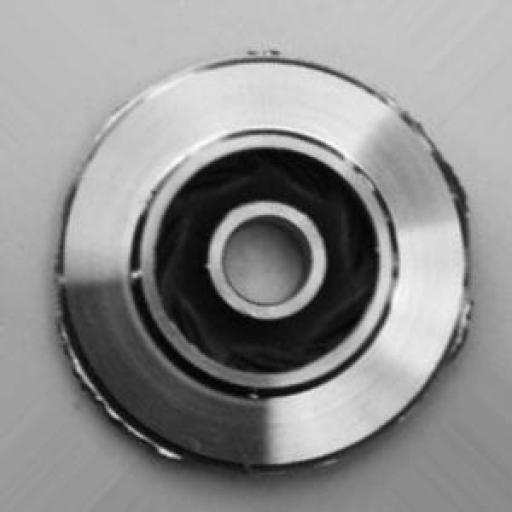defect: (28, 34, 484, 483)
